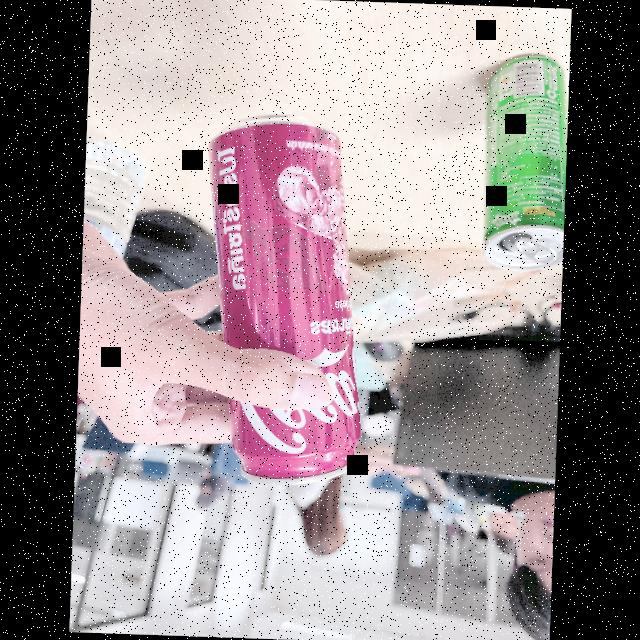can: (191, 97, 384, 501), (478, 47, 569, 275)
